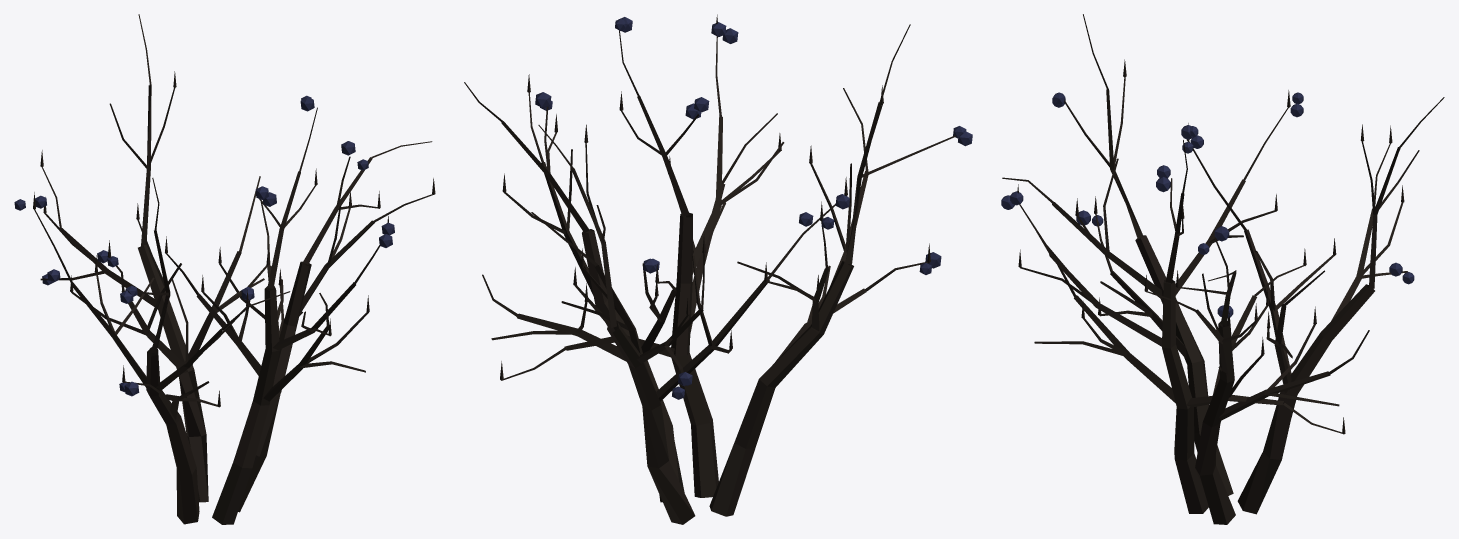
File: blackthorn_sloe.glb
3 views of the same model, side by side, from view 1: azimuth 30°, elevation 25°; view 2: azimuth 150°, elevation 25°; view 3: azimuth 270°, elevation 25° (orthographic). The views are drawn at different scales.
Visible parts, largest first — view 1: blackthorn_sloe; view 2: blackthorn_sloe; view 3: blackthorn_sloe.
Boxes of the visible parts, bbox=[...] form: blackthorn_sloe: bbox=[14, 14, 435, 524]; blackthorn_sloe: bbox=[464, 14, 972, 524]; blackthorn_sloe: bbox=[1001, 14, 1444, 524].
Size of the model in its own units: 1.83 by 1.9 by 1.76.
